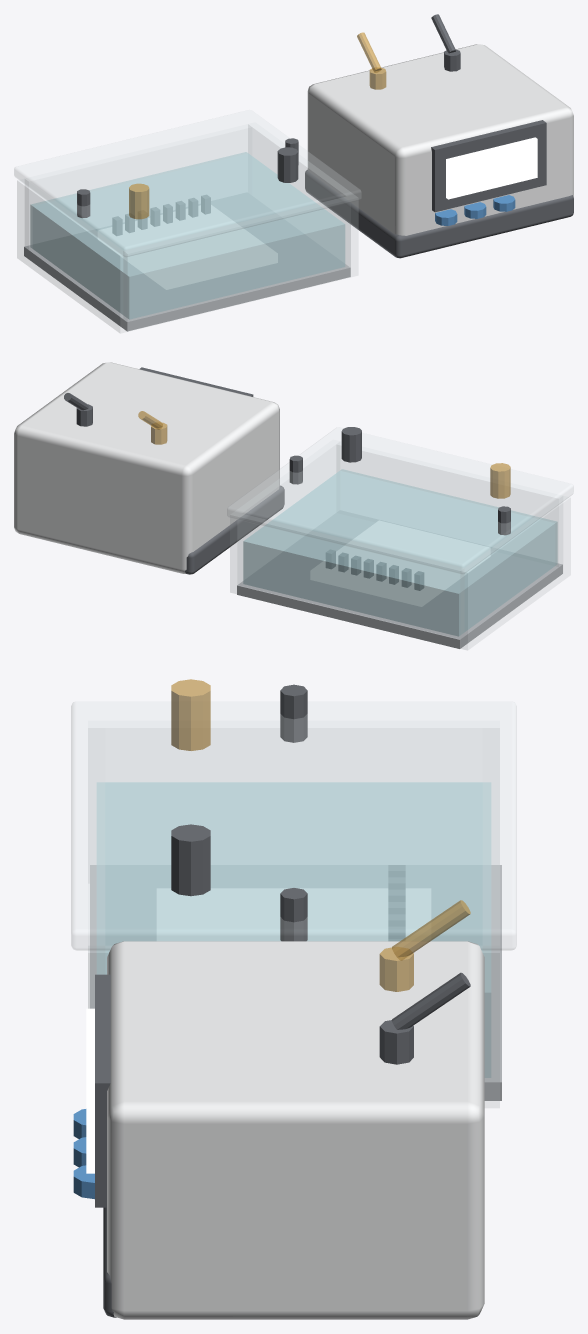
File: gel-tank-and-power-pack.glb
The picture shows the model from 3 angles, top to bottom: view 1: azimuth 30°, elevation 25°; view 2: azimuth 150°, elevation 25°; view 3: azimuth 270°, elevation 25°; orthographic projection. The views are drawn at different scales.
Parts seen in each view (by area): view 1: gel-tank-and-power-pack, lid/glass, lid/dark, lid/amber; view 2: gel-tank-and-power-pack, lid/glass, lid/amber, lid/dark; view 3: gel-tank-and-power-pack, lid/glass, lid/amber, lid/dark.
Part boxes in pixels (x1,y1,x2,y2): gel-tank-and-power-pack: [17, 14, 573, 333]; lid/glass: [14, 110, 361, 256]; lid/dark: [277, 147, 298, 182]; lid/amber: [129, 183, 149, 219]; gel-tank-and-power-pack: [14, 362, 570, 649]; lid/glass: [227, 427, 573, 573]; lid/amber: [490, 463, 510, 498]; lid/dark: [341, 427, 361, 462]; gel-tank-and-power-pack: [73, 684, 501, 1319]; lid/glass: [71, 701, 516, 950]; lid/amber: [171, 679, 210, 750]; lid/dark: [171, 824, 210, 896].
Size of the model in its own units: 0.6205 by 0.1938 by 0.26.
